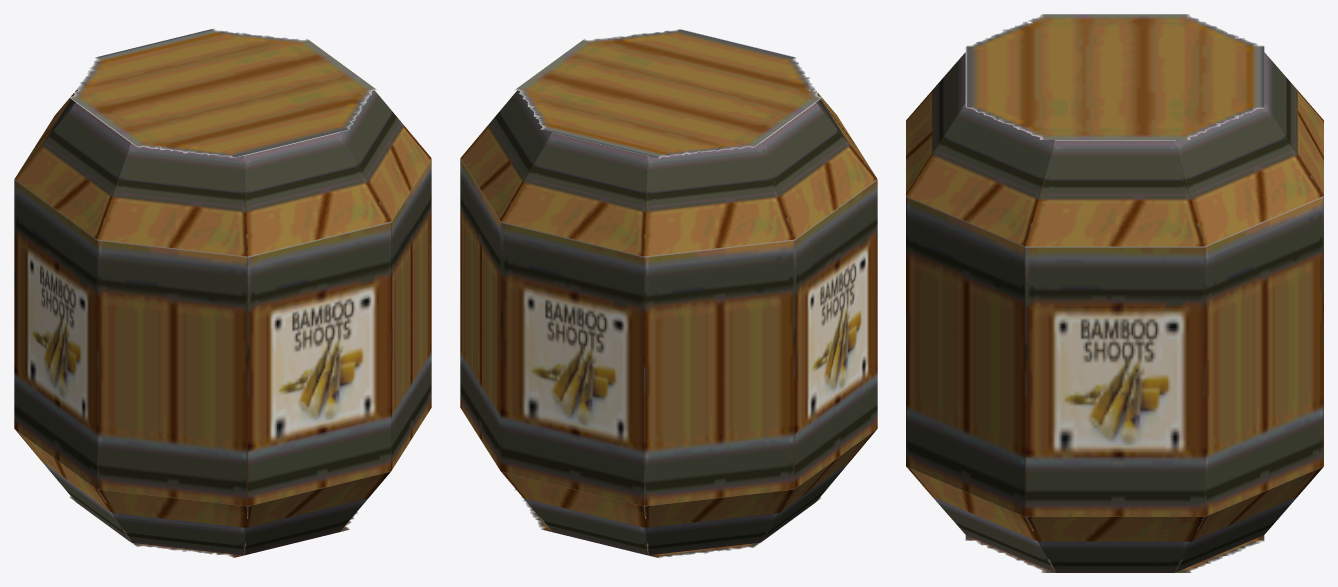
File: bambooshoot_seed_barrel.obj
3 views of the same model, side by side, from view 1: azimuth 30°, elevation 25°; view 2: azimuth 150°, elevation 25°; view 3: azimuth 270°, elevation 25° (orthographic). The views are drawn at different scales.
Visible parts, largest first — view 1: bambooshoot_seed_barrel; view 2: bambooshoot_seed_barrel; view 3: bambooshoot_seed_barrel.
Boxes of the visible parts, x1,y1,x2,y2 form: bambooshoot_seed_barrel: [14, 28, 431, 557]; bambooshoot_seed_barrel: [460, 29, 877, 558]; bambooshoot_seed_barrel: [906, 14, 1323, 572].
Bounding box in the file's own units: 0.875 × 1 × 0.875.
